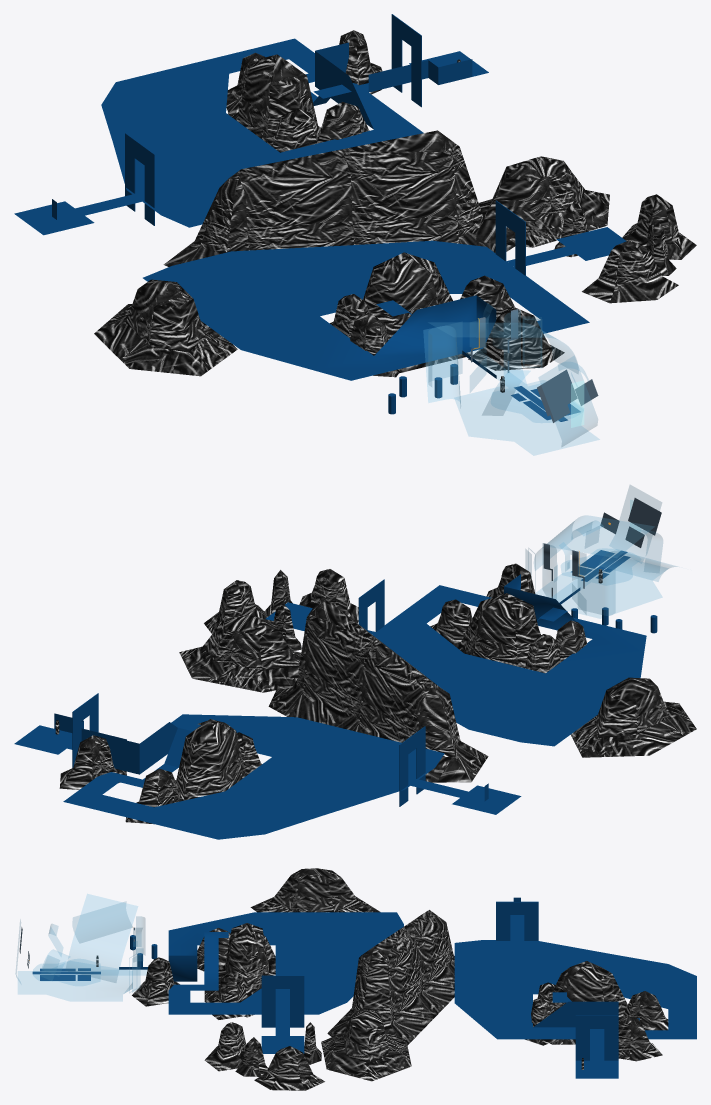
File: world_1k.glb
3 views of the same model, one above another, from view 1: azimuth 30°, elevation 25°; view 2: azimuth 150°, elevation 25°; view 3: azimuth 270°, elevation 25° (orthographic). The views are drawn at different scales.
Parts seen in each view (by area): view 1: Cube.001, Plane.001, Plane.005, Plane.004; view 2: Cube.001, Plane.001, Plane.005, Plane.004; view 3: Cube.001, Plane.001, Plane.005, Plane.004.
Part boxes in pixels (bbox=[...]): Cube.001: bbox=[94, 30, 696, 392]; Plane.001: bbox=[14, 14, 626, 422]; Plane.005: bbox=[143, 240, 589, 380]; Plane.004: bbox=[423, 303, 599, 455]; Cube.001: bbox=[55, 563, 696, 824]; Plane.001: bbox=[14, 549, 657, 839]; Plane.005: bbox=[372, 574, 646, 746]; Plane.004: bbox=[525, 485, 677, 618]; Cube.001: bbox=[96, 868, 668, 1090]; Plane.001: bbox=[32, 897, 696, 1078]; Plane.005: bbox=[168, 912, 403, 1014]; Plane.004: bbox=[15, 894, 145, 1001].
Bounding box in the file's own units: 65.55 × 13.29 × 95.77.
Materials: 7 (1 with a texture image).
